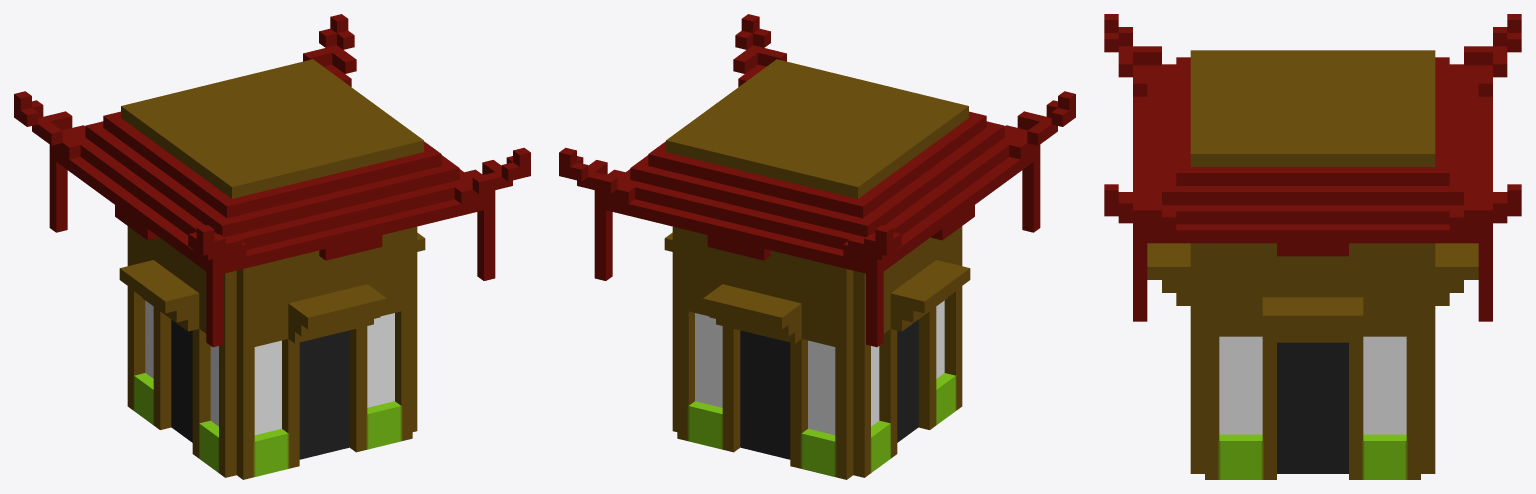
File: tenthModel(brown).fbx
3 views of the same model, side by side, from view 1: azimuth 30°, elevation 25°; view 2: azimuth 150°, elevation 25°; view 3: azimuth 270°, elevation 25° (orthographic). The views are drawn at different scales.
Visible parts, largest first — view 1: Box; view 2: Box; view 3: Box.
Boxes of the visible parts, x1,y1,x2,y2 form: Box: (14, 14, 530, 479); Box: (559, 14, 1075, 479); Box: (1104, 14, 1521, 479).
Size of the model in its own units: 29 by 25 by 29.
1 material, 1 textured.
